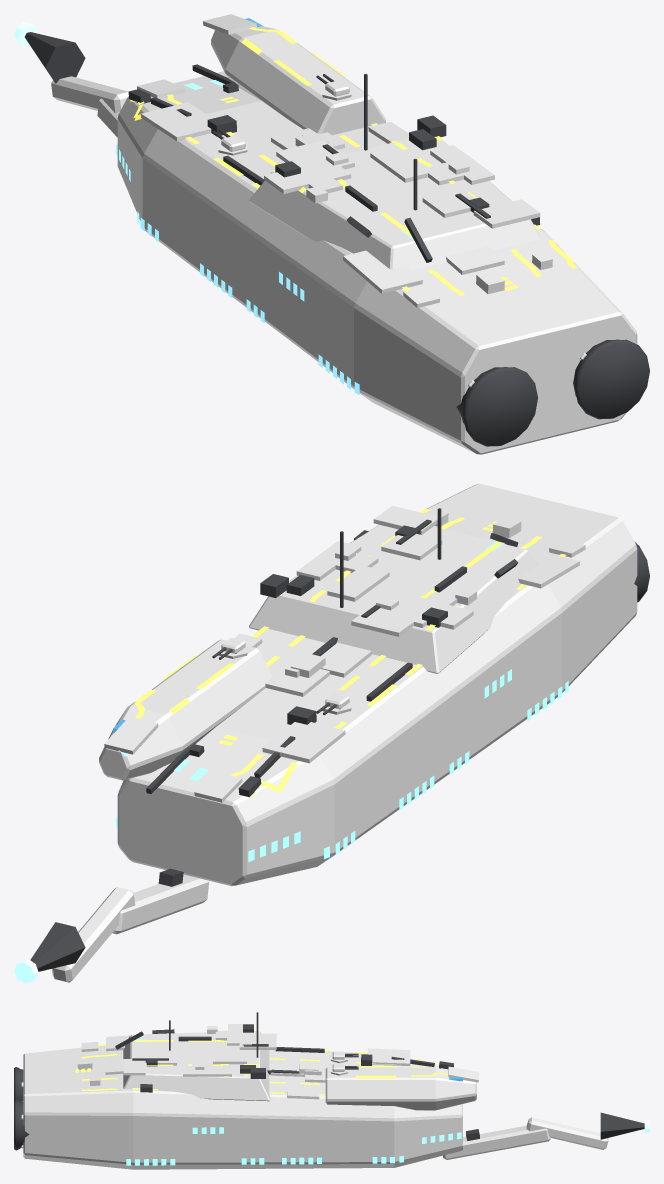
The model's file is staratel.glb.
The picture shows the model from 3 angles, top to bottom: view 1: azimuth 30°, elevation 25°; view 2: azimuth 150°, elevation 25°; view 3: azimuth 270°, elevation 25°; orthographic projection. The views are drawn at different scales.
Parts seen in each view (by area): view 1: Корпус, Накладные_плиты, Бункер, Кабина_сбоку, Механика, Кожух_дюзы.001, Кожух_дюзы, Разметка, Бур, Стрела_2, Решётки; view 2: Корпус, Накладные_плиты, Бункер, Кабина_сбоку, Механика, Разметка, Стрела_1, Стрела_2, Решётки, Бур; view 3: Корпус, Накладные_плиты, Бункер, Кабина_сбоку, Механика, Стрела_1, Разметка, Стрела_2, Решётки, Бур, Кожух_дюзы, Кожух_дюзы.001.
Boxes of the visible parts, left/top/right/bottom form: Корпус: left=117, top=71, right=637, bottom=454; Накладные_плиты: left=137, top=14, right=552, bottom=307; Бункер: left=249, top=138, right=541, bottom=270; Кабина_сбоку: left=211, top=26, right=385, bottom=135; Механика: left=128, top=64, right=540, bottom=262; Кожух_дюзы.001: left=456, top=367, right=537, bottom=446; Кожух_дюзы: left=573, top=339, right=649, bottom=419; Разметка: left=130, top=27, right=577, bottom=295; Бур: left=25, top=32, right=85, bottom=83; Стрела_2: left=51, top=76, right=128, bottom=113; Решётки: left=116, top=80, right=413, bottom=395; Корпус: left=117, top=483, right=637, bottom=886; Накладные_плиты: left=104, top=505, right=585, bottom=802; Бункер: left=249, top=525, right=538, bottom=673; Кабина_сбоку: left=99, top=639, right=272, bottom=780; Механика: left=146, top=508, right=518, bottom=886; Разметка: left=134, top=508, right=566, bottom=797; Стрела_1: left=112, top=874, right=209, bottom=934; Стрела_2: left=52, top=887, right=135, bottom=982; Решётки: left=116, top=541, right=568, bottom=861; Бур: left=30, top=922, right=85, bottom=971; Корпус: left=23, top=1045, right=462, bottom=1169; Накладные_плиты: left=77, top=1024, right=478, bottom=1099; Бункер: left=123, top=1031, right=270, bottom=1101; Кабина_сбоку: left=325, top=1067, right=476, bottom=1110; Механика: left=115, top=1012, right=479, bottom=1140; Стрела_1: left=443, top=1125, right=550, bottom=1159; Разметка: left=75, top=1029, right=448, bottom=1095; Стрела_2: left=526, top=1117, right=608, bottom=1149; Решётки: left=126, top=1039, right=461, bottom=1165; Бур: left=600, top=1112, right=644, bottom=1139; Кожух_дюзы: left=14, top=1099, right=29, bottom=1150; Кожух_дюзы.001: left=14, top=1067, right=23, bottom=1101.
Size of the model in its own units: 0.5277 by 0.5972 by 2.31.
